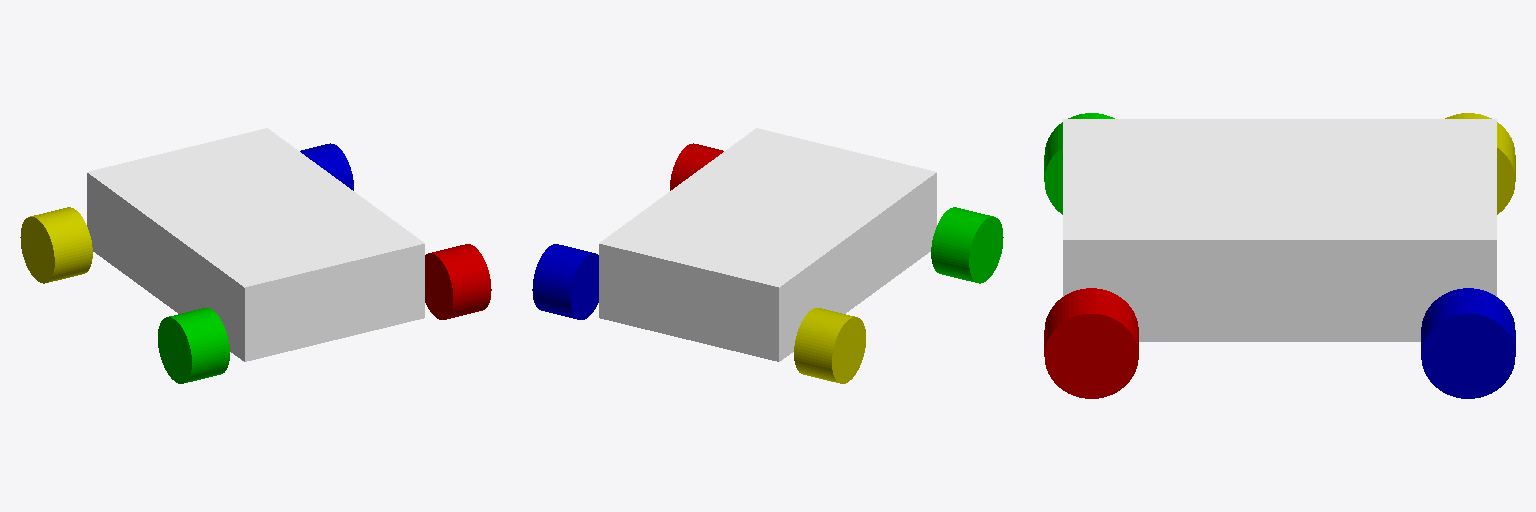
URDF robot description (sc_2553_50mm):
<?xml version="1.0" ?>
<robot name="sc_2553_50mm">
  <material name="blue">
    <color rgba="0 0 0.8 1"/>
  </material>

  <material name="white">
    <color rgba="1 1 1 1"/>
  </material>

  <material name="black">
    <color rgba="0 0 0 1"/>
  </material>

  <material name="green">
    <color rgba="0 0.8 0 1"/>
  </material>

  <material name="red">
    <color rgba="0.8 0 0 1"/>
  </material>

  <material name="yellow">
    <color rgba="0.8 0.8 0 1"/>
  </material>
<link name="base_link">
  <inertial>
    <origin rpy="0 0 0" xyz="0.0 0.0 0.030000000000000006"/>
    <mass value="1.8752543999999998"/>
    <inertia ixx="0.008829322800000003" ixy="-2.842170943040401e-18" ixz="0.0" iyy="0.004173066124800003" iyz="1.4210854715202004e-18" izz="0.0118772362848"/>
  </inertial>
  <visual>
    <origin rpy="0 0 0" xyz="0 0 0"/>
    <geometry>
      <mesh filename="bin_stl/base_link_m-binary.stl"/>
    </geometry>
    <material name="white"/>
  </visual>
  <collision>
    <origin rpy="0 0 0" xyz="0 0 0"/>
    <geometry>
      <mesh filename="bin_stl/base_link_m-binary.stl"/>
    </geometry>
  </collision>
</link>
<link name="BL_1">
  <inertial>
    <origin rpy="0 0 0" xyz="-0.016000000000000014 0.0 -8.673617379884035e-18"/>
    <mass value="0.16964600329384877"/>
    <inertia ixx="5.3014376029326266e-05" ixy="-2.168404344971009e-19" ixz="5.421010862427522e-20" iyy="4.098364696240517e-05" iyz="5.421010862427522e-20" izz="4.0983646962406035e-05"/>
  </inertial>
  <visual>
    <origin rpy="0 0 0" xyz="0.094 -0.1 -0.015"/>
    <geometry>
      <mesh filename="bin_stl/BL_1_m-binary.stl"/>
    </geometry>
    <material name="yellow"/>
  </visual>
  <collision>
    <origin rpy="0 0 0" xyz="0.094 -0.1 -0.015"/>
    <geometry>
      <mesh filename="bin_stl/BL_1_m-binary.stl"/>
    </geometry>
  </collision>
</link>
<link name="BR_1">
  <inertial>
    <origin rpy="0 0 0" xyz="0.015999999999999986 0.0 -1.5612511283791264e-17"/>
    <mass value="0.16964600329384888"/>
    <inertia ixx="5.30143760293267e-05" ixy="0.0" ixz="-5.421010862427522e-20" iyy="4.09836469624043e-05" iyz="-5.421010862427522e-20" izz="4.098364696240517e-05"/>
  </inertial>
  <visual>
    <origin rpy="0 0 0" xyz="-0.094 -0.1 -0.015"/>
    <geometry>
      <mesh filename="bin_stl/BR_1_m-binary.stl"/>
    </geometry>
    <material name="blue"/>
  </visual>
  <collision>
    <origin rpy="0 0 0" xyz="-0.094 -0.1 -0.015"/>
    <geometry>
      <mesh filename="bin_stl/BR_1_m-binary.stl"/>
    </geometry>
  </collision>
</link>
<link name="FR_1">
  <inertial>
    <origin rpy="0 0 0" xyz="0.015999999999999986 0.0 1.9081958235744878e-17"/>
    <mass value="0.16964600329384877"/>
    <inertia ixx="5.301437602932605e-05" ixy="-2.168404344971009e-19" ixz="0.0" iyy="4.098364696240387e-05" iyz="0.0" izz="4.098364696240517e-05"/>
  </inertial>
  <visual>
    <origin rpy="0 0 0" xyz="-0.094 0.1 -0.015"/>
    <geometry>
      <mesh filename="bin_stl/FR_1_m-binary.stl"/>
    </geometry>
    <material name="red"/>
  </visual>
  <collision>
    <origin rpy="0 0 0" xyz="-0.094 0.1 -0.015"/>
    <geometry>
      <mesh filename="bin_stl/FR_1_m-binary.stl"/>
    </geometry>
  </collision>
</link>
<link name="FL_1">
  <inertial>
    <origin rpy="0 0 0" xyz="-0.016000000000000014 0.0 1.5612511283791264e-17"/>
    <mass value="0.16964600329384877"/>
    <inertia ixx="5.301437602932605e-05" ixy="2.168404344971009e-19" ixz="5.421010862427522e-20" iyy="4.0983646962404734e-05" iyz="0.0" izz="4.0983646962406035e-05"/>
  </inertial>
  <visual>
    <origin rpy="0 0 0" xyz="0.094 0.1 -0.015"/>
    <geometry>
      <mesh filename="bin_stl/FL_1_m-binary.stl"/>
    </geometry>
    <material name="green"/>
  </visual>
  <collision>
    <origin rpy="0 0 0" xyz="0.094 0.1 -0.015"/>
    <geometry>
      <mesh filename="bin_stl/FL_1_m-binary.stl"/>
    </geometry>
  </collision>
</link>
<joint name="BL" type="continuous">
  <origin rpy="0 0 0" xyz="-0.094 0.1 0.015"/>
  <parent link="base_link"/>
  <child link="BL_1"/>
  <axis xyz="-1.0 0.0 0.0"/>
</joint>
<transmission name="BL_tran">
  <type>transmission_interface/SimpleTransmission</type>
  <joint name="BL">
    <hardwareInterface>PositionJointInterface</hardwareInterface>
  </joint>
  <actuator name="BL_actr">
    <hardwareInterface>PositionJointInterface</hardwareInterface>
    <mechanicalReduction>1</mechanicalReduction>
  </actuator>
</transmission>
<joint name="BR" type="continuous">
  <origin rpy="0 0 0" xyz="0.094 0.1 0.015"/>
  <parent link="base_link"/>
  <child link="BR_1"/>
  <axis xyz="-1.0 0.0 0.0"/>
</joint>
<transmission name="BR_tran">
  <type>transmission_interface/SimpleTransmission</type>
  <joint name="BR">
    <hardwareInterface>PositionJointInterface</hardwareInterface>
  </joint>
  <actuator name="BR_actr">
    <hardwareInterface>PositionJointInterface</hardwareInterface>
    <mechanicalReduction>1</mechanicalReduction>
  </actuator>
</transmission>
<joint name="FR" type="continuous">
  <origin rpy="0 0 0" xyz="0.094 -0.1 0.015"/>
  <parent link="base_link"/>
  <child link="FR_1"/>
  <axis xyz="1.0 0.0 0.0"/>
</joint>
<transmission name="FR_tran">
  <type>transmission_interface/SimpleTransmission</type>
  <joint name="FR">
    <hardwareInterface>PositionJointInterface</hardwareInterface>
  </joint>
  <actuator name="FR_actr">
    <hardwareInterface>PositionJointInterface</hardwareInterface>
    <mechanicalReduction>1</mechanicalReduction>
  </actuator>
</transmission>
<joint name="FL" type="continuous">
  <origin rpy="0 0 0" xyz="-0.094 -0.1 0.015"/>
  <parent link="base_link"/>
  <child link="FL_1"/>
  <axis xyz="-1.0 0.0 0.0"/>
</joint>
<transmission name="FL_tran">
  <type>transmission_interface/SimpleTransmission</type>
  <joint name="FL">
    <hardwareInterface>PositionJointInterface</hardwareInterface>
  </joint>
  <actuator name="FL_actr">
    <hardwareInterface>PositionJointInterface</hardwareInterface>
    <mechanicalReduction>1</mechanicalReduction>
  </actuator>
</transmission>
<gazebo>
  <plugin filename="libgazebo_ros_control.so" name="control"/>
</gazebo>
</robot>

--- What the picture shows (computed from the rendered views, not written in the file) ---
The picture shows the robot from 3 angles, left to right: view 1: azimuth 30°, elevation 25°; view 2: azimuth 150°, elevation 25°; view 3: azimuth 270°, elevation 25°; orthographic projection.
Model sc_2553_50mm with 5 links and 4 joints (4 continuous), rooted at base_link, posed all joints at 0.
Visible links, largest first — view 1: base_link, BL_1, FL_1, FR_1, BR_1; view 2: base_link, FL_1, BL_1, BR_1, FR_1; view 3: base_link, BR_1, FR_1, BL_1, FL_1.
Link boxes in pixels (x1,y1,x2,y2): base_link: [87, 128, 424, 361]; BL_1: [20, 207, 92, 283]; FL_1: [158, 308, 229, 383]; FR_1: [425, 244, 491, 319]; BR_1: [300, 143, 353, 190]; base_link: [599, 128, 936, 361]; FL_1: [931, 207, 1003, 283]; BL_1: [794, 308, 865, 383]; BR_1: [532, 244, 598, 319]; FR_1: [670, 143, 723, 190]; base_link: [1063, 119, 1496, 341]; BR_1: [1421, 288, 1515, 398]; FR_1: [1044, 288, 1138, 398]; BL_1: [1445, 113, 1515, 214]; FL_1: [1044, 113, 1114, 214].
Bounding box of the posed robot: 0.252 × 0.25 × 0.07 m (x, y, z).
Meshes: 5 distinct files referenced, 5 mesh visuals loaded (5 binary STL).
